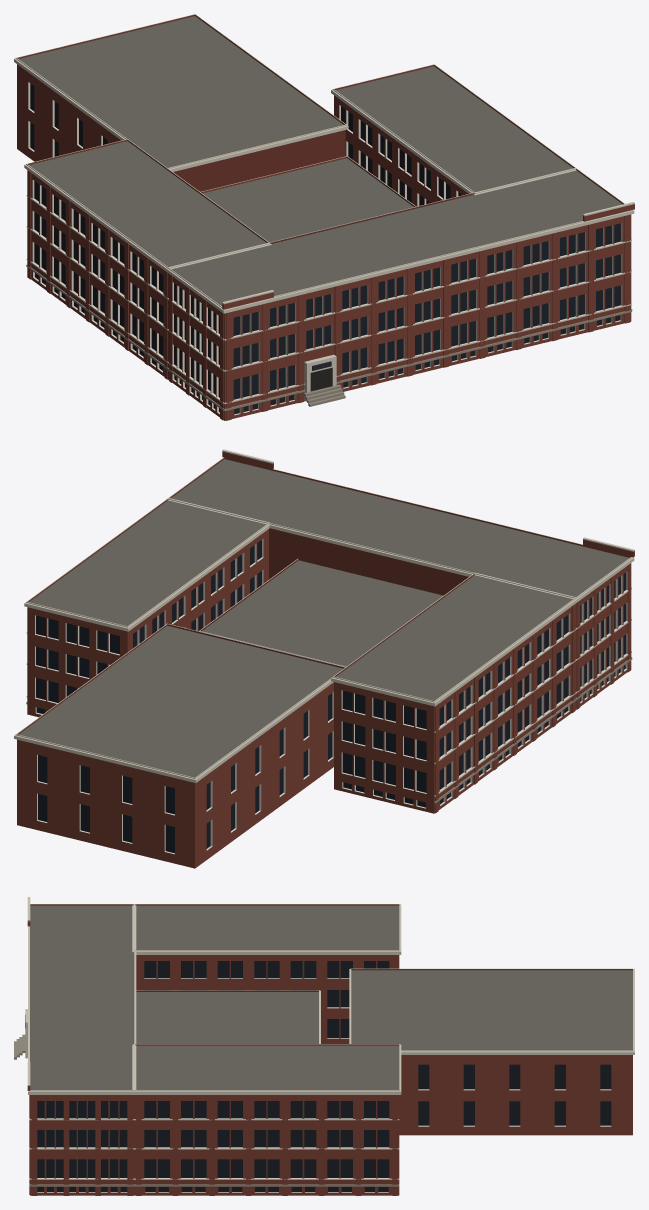
The model's file is west-side-junior-high-school.glb.
3 views of the same model, one above another, from view 1: azimuth 30°, elevation 25°; view 2: azimuth 150°, elevation 25°; view 3: azimuth 270°, elevation 25° (orthographic). The views are drawn at different scales.
Parts seen in each view (by area): view 1: west_roof, west_brick, west_glass, west_stone, west_sash, west_brick2, west_base; view 2: west_roof, west_brick, west_glass, west_stone, west_sash, west_brick2, west_base; view 3: west_roof, west_brick, west_glass, west_stone, west_sash, west_base.
Boxes of the visible parts, bbox=[...] form: west_roof: bbox=[19, 16, 622, 306]; west_brick: bbox=[17, 14, 634, 420]; west_glass: bbox=[30, 83, 620, 414]; west_stone: bbox=[14, 14, 634, 404]; west_sash: bbox=[28, 82, 622, 415]; west_brick2: bbox=[173, 130, 474, 243]; west_base: bbox=[26, 264, 632, 410]; west_roof: bbox=[19, 459, 629, 777]; west_brick: bbox=[17, 451, 634, 868]; west_glass: bbox=[36, 540, 626, 853]; west_stone: bbox=[14, 449, 634, 796]; west_sash: bbox=[35, 538, 627, 854]; west_brick2: bbox=[167, 528, 468, 668]; west_base: bbox=[26, 657, 632, 803]; west_roof: bbox=[30, 905, 632, 1089]; west_brick: bbox=[27, 904, 632, 1195]; west_glass: bbox=[37, 961, 611, 1191]; west_stone: bbox=[25, 897, 634, 1179]; west_sash: bbox=[37, 978, 611, 1192]; west_base: bbox=[14, 1034, 399, 1186].
Bounding box in the file's own units: 55.4 × 15.35 × 77.36.
